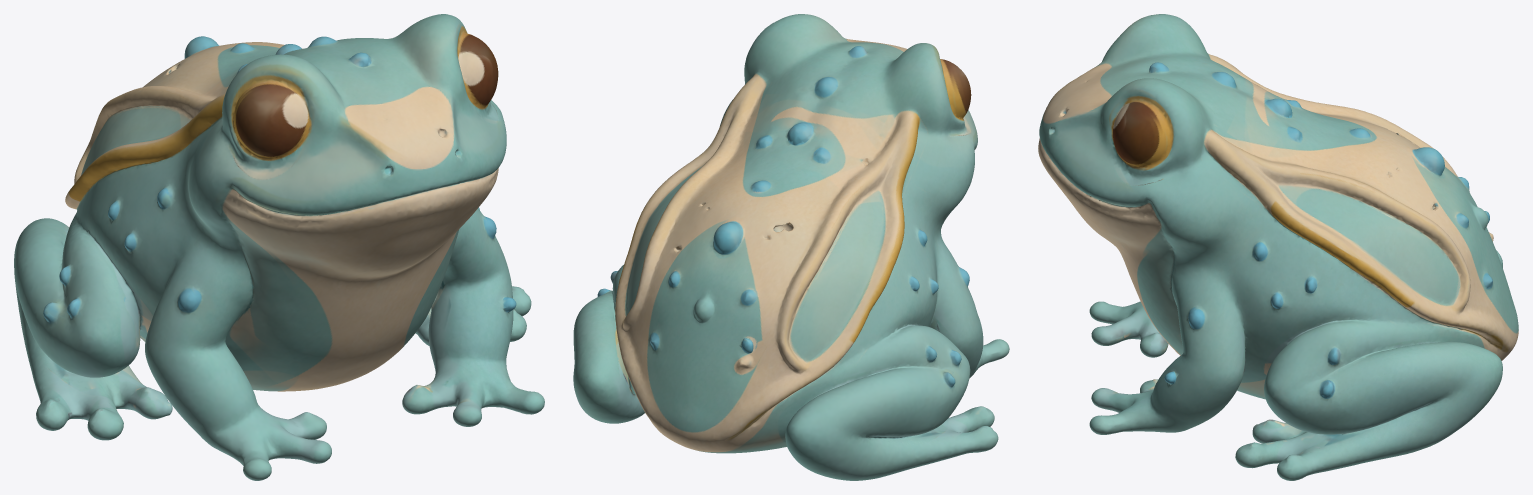
The model's file is Frog.obj.
The picture shows the model from 3 angles, left to right: view 1: azimuth 30°, elevation 25°; view 2: azimuth 150°, elevation 25°; view 3: azimuth 270°, elevation 25°; orthographic projection. The views are drawn at different scales.
Visible parts, largest first — view 1: surface_8; view 2: surface_8; view 3: surface_8.
Part boxes in pixels (x1,y1,x2,y2): surface_8: (14,14,544,480); surface_8: (573,14,1009,480); surface_8: (1038,14,1518,480).
Size of the model in its own units: 1 by 0.7849 by 0.9978.
Materials: 1 (1 with a texture image).
